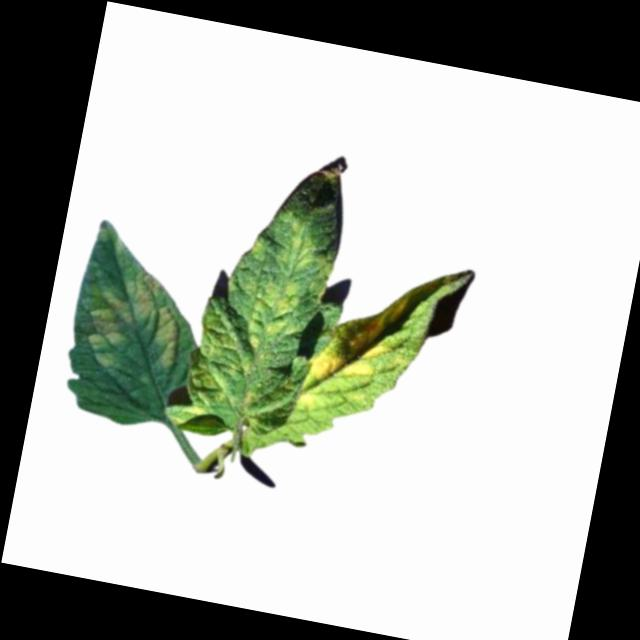Leaf_Mold: (72, 261, 190, 385), (239, 209, 323, 358), (306, 276, 409, 396), (179, 304, 262, 417), (295, 388, 322, 411)
